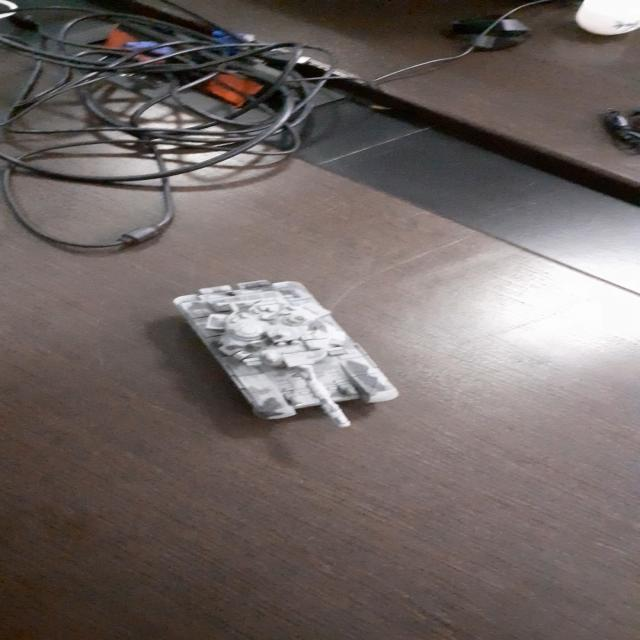tank: (173, 282, 404, 428)
